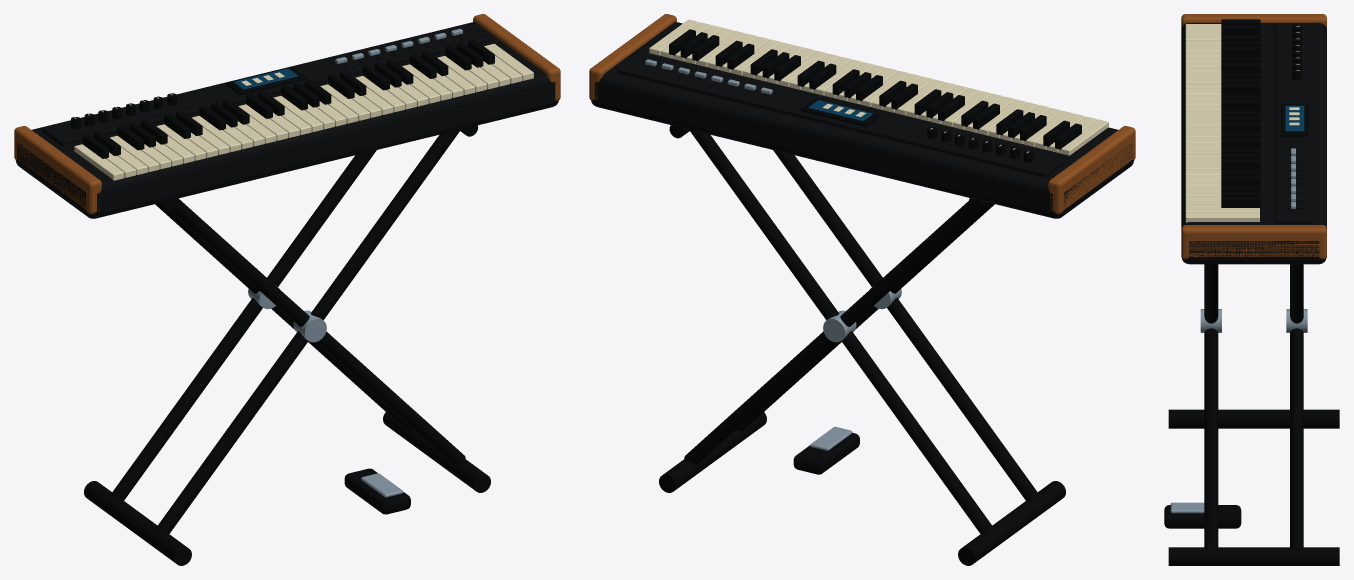
File: Keyboard.obj
3 renders of one model, left to right at view 1: azimuth 30°, elevation 25°; view 2: azimuth 150°, elevation 25°; view 3: azimuth 270°, elevation 25°, orthographic. The views are drawn at different scales.
Visible parts, largest first — view 1: Stage_piano_chassis.001; view 2: Stage_piano_chassis.001; view 3: Stage_piano_chassis.001.
Part boxes in pixels (x1=…): Stage_piano_chassis.001: x1=14, y1=14, x2=560, y2=565; Stage_piano_chassis.001: x1=589, y1=14, x2=1135, y2=565; Stage_piano_chassis.001: x1=1164, y1=14, x2=1339, y2=565.
Bounding box in the file's own units: 1.2 × 0.9905 × 0.41.
